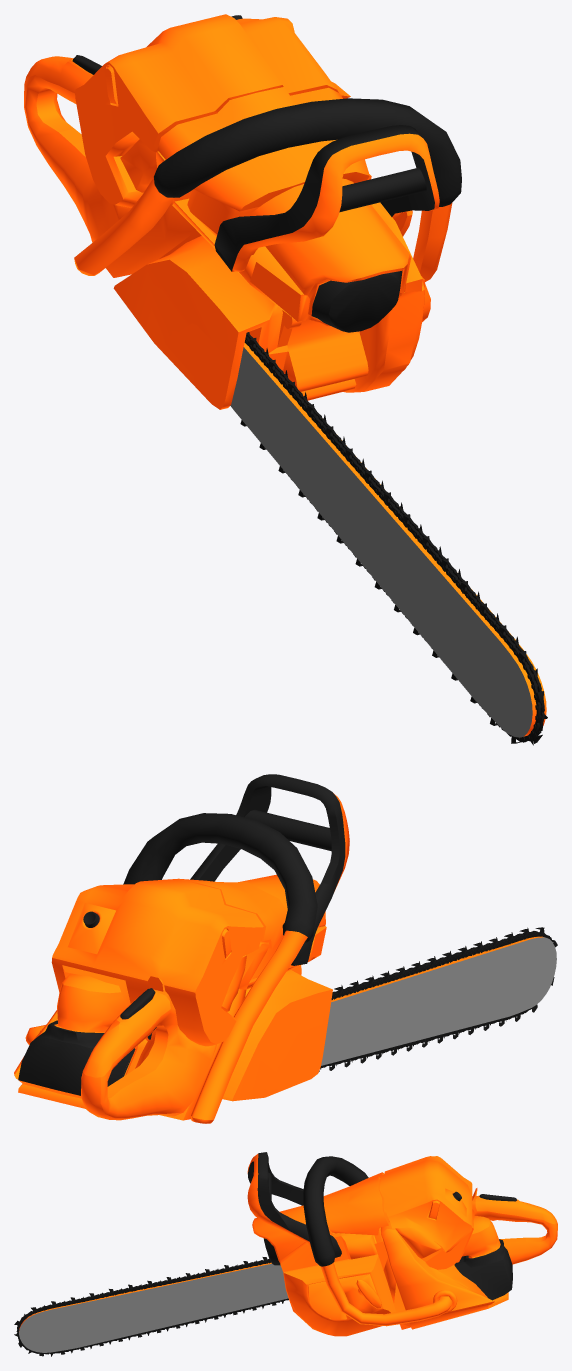
The model's file is Weapon17.fbx.
3 views of the same model, one above another, from view 1: azimuth 30°, elevation 25°; view 2: azimuth 150°, elevation 25°; view 3: azimuth 270°, elevation 25° (orthographic). The views are drawn at different scales.
Parts seen in each view (by area): view 1: _3DGeom_1, _3DGeom_3, _3DGeom_4, _3DGeom_5, _3DGeom_2; view 2: _3DGeom_1, _3DGeom_4, _3DGeom_3, _3DGeom_5; view 3: _3DGeom_1, _3DGeom_3, _3DGeom_4, _3DGeom_5.
Part boxes in pixels (x1,y1,x2,y2): _3DGeom_1: (24, 14, 546, 736); _3DGeom_3: (230, 347, 532, 737); _3DGeom_4: (72, 15, 461, 271); _3DGeom_5: (240, 332, 547, 745); _3DGeom_2: (311, 270, 402, 332); _3DGeom_1: (14, 793, 543, 1123); _3DGeom_4: (18, 774, 345, 1095); _3DGeom_3: (321, 937, 556, 1065); _3DGeom_5: (319, 927, 557, 1071); _3DGeom_1: (19, 1154, 557, 1336); _3DGeom_3: (19, 1263, 288, 1352); _3DGeom_4: (248, 1152, 516, 1300); _3DGeom_5: (14, 1257, 288, 1356).
Bounding box in the file's own units: 51.67 × 76.54 × 176.
